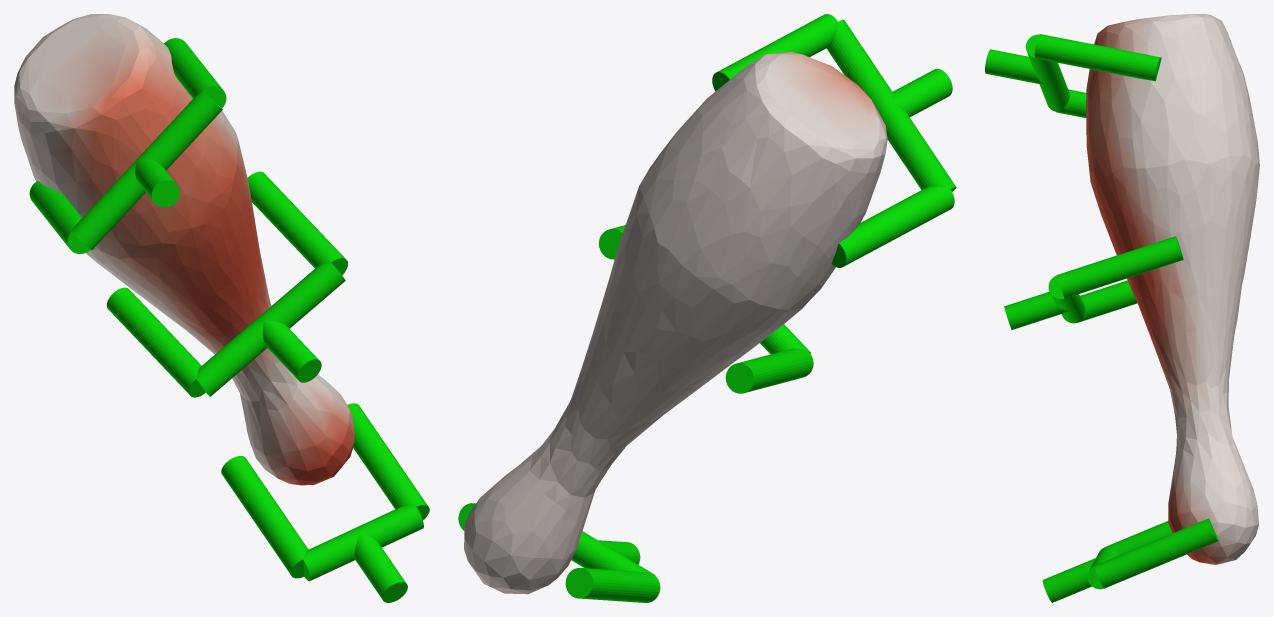
The model's file is round_001_trial_000.obj.
The picture shows the model from 3 angles, left to right: view 1: azimuth 30°, elevation 25°; view 2: azimuth 150°, elevation 25°; view 3: azimuth 270°, elevation 25°; orthographic projection. The views are drawn at different scales.
Visible parts, largest first — view 1: geometry_0, geometry_2, geometry_1, geometry_3; view 2: geometry_0, geometry_3, geometry_1, geometry_2; view 3: geometry_0, geometry_2, geometry_3, geometry_1.
Boxes of the visible parts, box(x1,y1,x2,y2) form: geometry_0: box(14, 14, 354, 485); geometry_2: box(106, 171, 347, 397); geometry_1: box(221, 403, 429, 602); geometry_3: box(29, 38, 226, 253); geometry_0: box(464, 51, 887, 594); geometry_3: box(712, 14, 956, 267); geometry_1: box(458, 503, 660, 602); geometry_2: box(599, 225, 813, 393); geometry_0: box(1086, 14, 1259, 564); geometry_2: box(1004, 236, 1183, 329); geometry_3: box(985, 34, 1161, 117); geometry_1: box(1042, 518, 1219, 602).
Size of the model in its own units: 0.1521 by 0.2204 by 0.1098.
